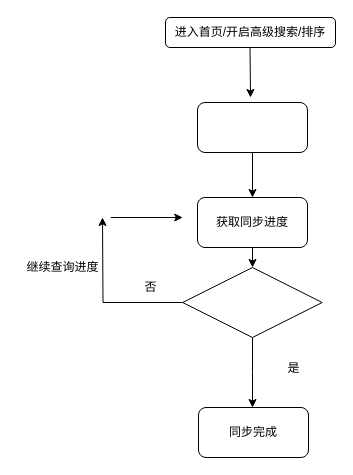
Image size: 353x475. Some labels were removed from this diagram. Here are the shapes that lost their labels. From the top down, the centre of each, then its label:
At (x=252, y=127): "通知后台同步订单".
At (x=252, y=302): "进度是否为100%".
